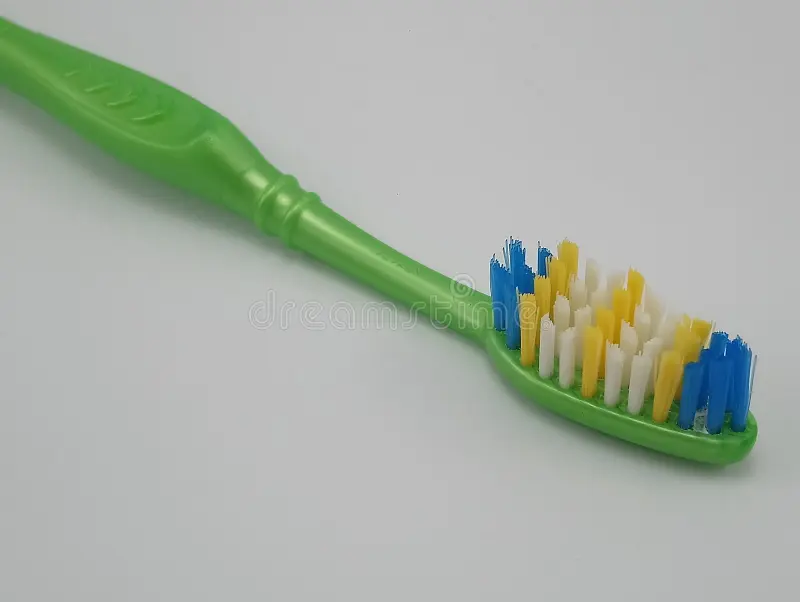non-toxic_waste: (132, 1, 800, 187)
